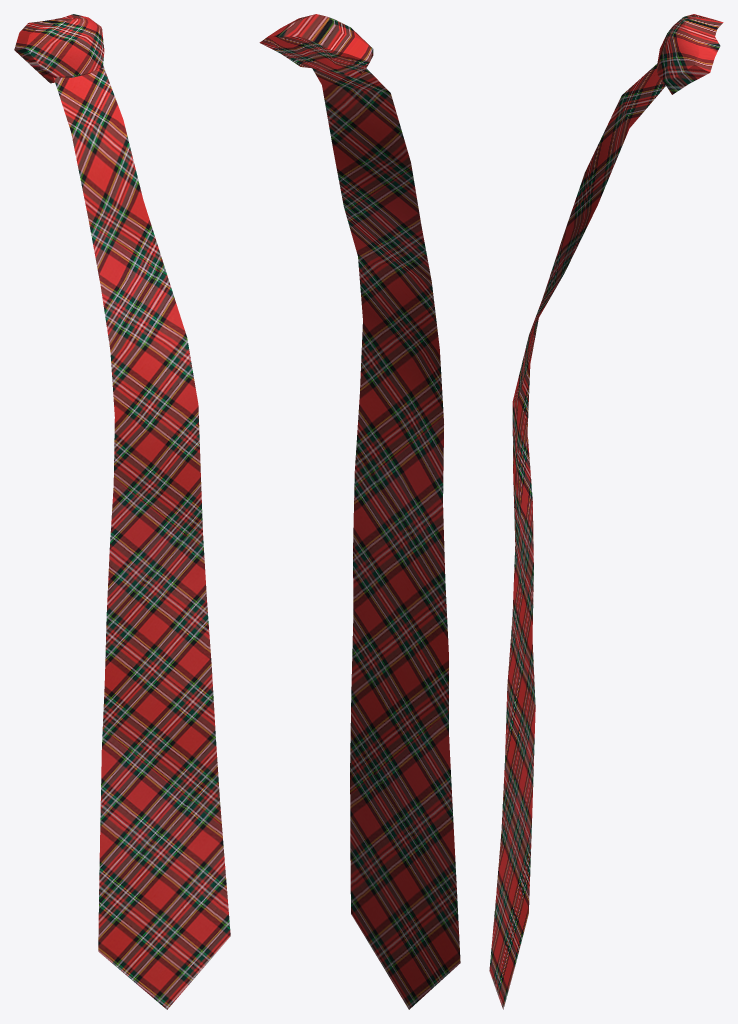
The model's file is Pose-0_Tie-1.fbx.
The picture shows the model from 3 angles, left to right: view 1: azimuth 30°, elevation 25°; view 2: azimuth 150°, elevation 25°; view 3: azimuth 270°, elevation 25°; orthographic projection. The views are drawn at different scales.
Parts seen in each view (by area): view 1: Pose-0_Tie-1; view 2: Pose-0_Tie-1; view 3: Pose-0_Tie-1.
Boxes of the visible parts, x1,y1,x2,y2 form: Pose-0_Tie-1: [14, 14, 230, 1009]; Pose-0_Tie-1: [259, 14, 460, 1009]; Pose-0_Tie-1: [489, 14, 723, 1009].
Size of the model in its own units: 6.89 by 52.52 by 11.36.
